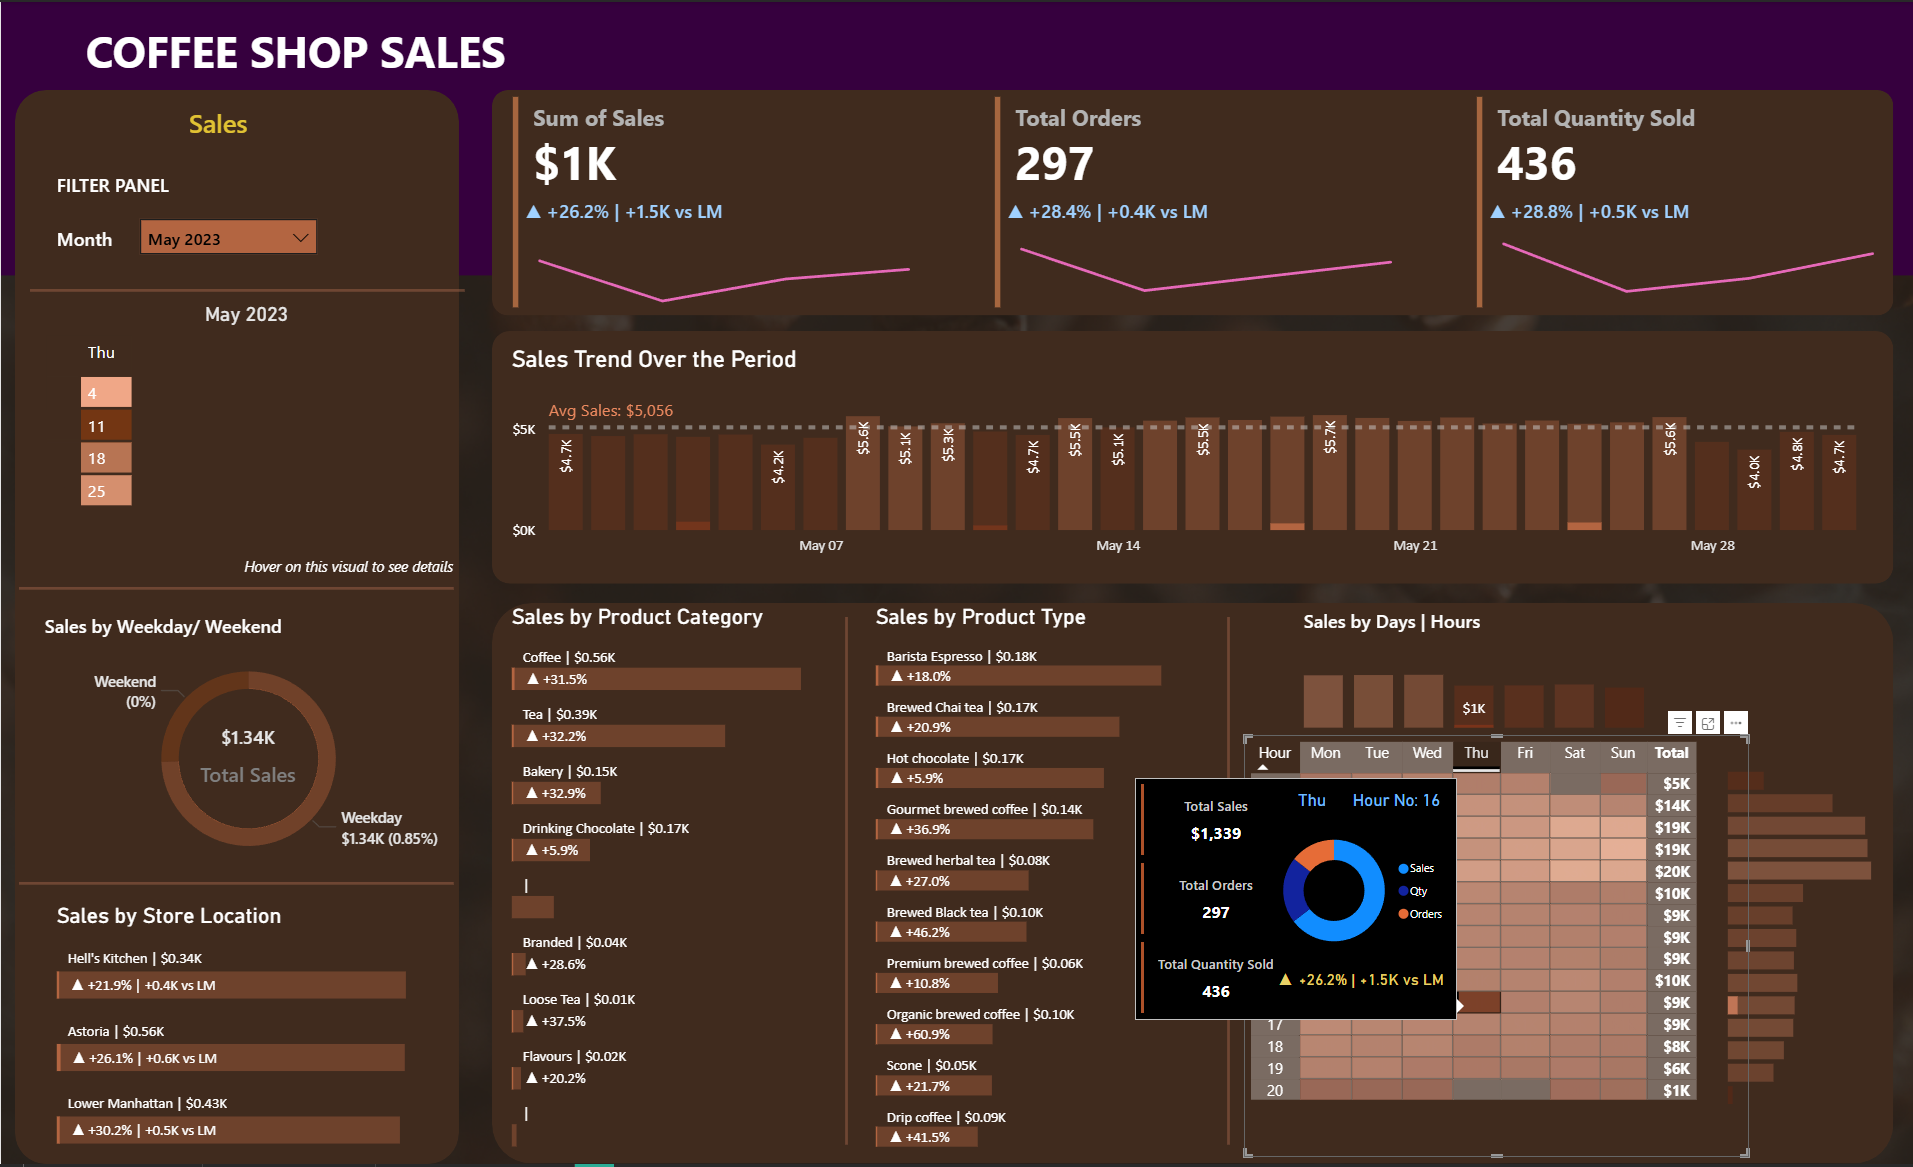

The page's visual inventory and layout, read from the dashboard file:
{"tool":"powerbi","page":{"name":"Coffee Shop Sales Report","canvas":[1400,850],"ordinal":0},"visuals":[{"type":"shape","box":[0,0,1400,200],"z":0},{"type":"shape","box":[10.5,64.4,324.7,785.7],"z":1000},{"type":"shape","box":[358.9,64.7,1025.1,164.9],"z":2000},{"type":"textbox","box":[57.4,8,328.4,56.7],"z":3000},{"type":"cardVisual","fields":{"Data":["Sum(Transactions.Sales)"]},"box":[369.1,64.7,300,164.9],"z":4000,"group":"g1"},{"type":"cardVisual","fields":{"Data":["Transactions.Total Orders"]},"box":[721.8,64.7,300,164.9],"z":4000,"group":"g2"},{"type":"cardVisual","fields":{"Data":["Transactions.Total Quantity Sold"]},"box":[1074.5,64.7,300,164.9],"z":4000,"group":"g3"},{"type":"slicer","fields":{"Values":["Date Table.Month Year"]},"box":[96.5,153.4,139.9,39.7],"z":4000},{"type":"group","id":"g1","title":"Group 1","box":[369.1,64.7,309.5,164.9],"z":5000},{"type":"group","id":"g2","title":"Group 1","box":[721.8,64.7,309.5,164.9],"z":6000},{"type":"lineChart","fields":{"Y":["Transactions.Total Sales"],"Category":["Date Table.Date.Variation.Date Hierarchy.Year","Date Table.Date.Variation.Date Hierarchy.Quarter","Date Table.Date.Variation.Date Hierarchy.Month","Date Table.Date.Variation.Date Hierarchy.Day"]},"box":[378.5,144.6,300,85],"z":6000,"group":"g1"},{"type":"lineChart","fields":{"Category":["Date Table.Date.Variation.Date Hierarchy.Year","Date Table.Date.Variation.Date Hierarchy.Quarter","Date Table.Date.Variation.Date Hierarchy.Month","Date Table.Date.Variation.Date Hierarchy.Day"],"Y":["Transactions.Total Orders"]},"box":[731.2,144.6,300,85],"z":6000,"group":"g2"},{"type":"lineChart","fields":{"Category":["Date Table.Date.Variation.Date Hierarchy.Year","Date Table.Date.Variation.Date Hierarchy.Quarter","Date Table.Date.Variation.Date Hierarchy.Month","Date Table.Date.Variation.Date Hierarchy.Day"],"Y":["Transactions.Total Quantity Sold"]},"box":[1083.9,144.6,300,85],"z":6000,"group":"g3"},{"type":"group","id":"g3","title":"Group 1","box":[1074.5,64.7,309.5,164.9],"z":7000},{"type":"pivotTable","fields":{"Rows":["Date Table.Week Number"],"Columns":["Date Table.Day Name"],"Values":["Min(Date Table.Day Number)"]},"box":[28.3,239,305,190],"z":8000},{"type":"card","fields":{"Values":["Min(Date Table.Month Year)"]},"box":[137.3,211.4,84.3,35.6],"z":9000},{"type":"card","fields":{"Values":["Transactions.Foot Note"]},"box":[166.4,401,176.5,24],"z":10000},{"type":"shape","box":[13.5,417.5,318,22.4],"z":11000},{"type":"shape","box":[21.1,199.8,318.2,22.5],"z":12000},{"type":"donutChart","title":"Sales by Weekday/ Weekend","fields":{"Category":["Date Table.Weekday/ Weekend"],"Y":["Transactions.Total Sales"]},"box":[26.9,447.5,308,194.7],"z":13000},{"type":"card","fields":{"Values":["Transactions.Total Sales"]},"box":[125,523.1,111.2,53.8],"z":14000},{"type":"shape","box":[13.5,633.8,318,22.4],"z":15000},{"type":"clusteredBarChart","title":"Sales by Store Location","fields":{"Category":["Transactions.store_location"],"Y":["Transactions.Placeholder","Transactions.Total Sales"]},"box":[35.6,658.2,290.6,184.5],"z":16000},{"type":"shape","box":[359.2,240.9,1025.1,184.8],"z":17000},{"type":"columnChart","title":"Sales Trend Over the Period","fields":{"Category":["Transactions.transaction_date"],"Y":["Transactions.Total Sales"]},"box":[368.9,250.7,997.4,162.4],"z":18000},{"type":"shape","box":[359.2,440,1025.1,410],"z":19000},{"type":"clusteredBarChart","title":"Sales by Product Category","fields":{"Category":["Transactions.product_category"],"Y":["Transactions.Placeholder","Transactions.Total Sales"]},"box":[368.9,440,249.9,403.3],"z":20000},{"type":"shape","box":[602.4,449.7,32.9,386.1],"z":21000},{"type":"clusteredBarChart","title":"Sales by Product Type","fields":{"Y":["Transactions.Placeholder","Transactions.Total Sales"],"Category":["Transactions.product_type"]},"box":[635.3,440,249.9,403.3],"z":22000},{"type":"shape","box":[881.5,449.7,32.9,386.1],"z":23000},{"type":"pivotTable","fields":{"Rows":["Transactions.Hour"],"Values":["Transactions.Total Sales"],"Columns":["Date Table.Day Name"]},"box":[909.1,536.5,369.6,308.3],"z":24000},{"type":"barChart","fields":{"Category":["Transactions.Hour"],"Y":["Transactions.Total Sales"]},"box":[1257.8,550,116.7,261.1],"z":25000},{"type":"columnChart","title":"Sales by Days | Hours","fields":{"Y":["Transactions.Total Sales"],"Category":["Date Table.Day Name"]},"box":[948,443.7,259.6,92.8],"z":26000},{"type":"textbox","box":[35.9,159.4,60.6,27.7],"z":27000},{"type":"textbox","box":[35.9,119.7,96.5,27.7],"z":28000},{"type":"textbox","box":[132.4,71.1,77.8,38.9],"z":29000}]}

Visuals, with their boxes in screenshot pixels (x1, y1, x2, y2), scaled from the page's 1400x850 canvas onto the 1913x1167 screenshot:
shape: 0 0 1912 275
shape: 14 88 458 1166
shape: 490 89 1891 315
textbox: 78 11 527 89
cardVisual - Sum(Transactions.Sales): 504 89 914 315
cardVisual - Transactions.Total Orders: 986 89 1396 315
cardVisual - Transactions.Total Quantity Sold: 1468 89 1878 315
slicer - Date Table.Month Year: 132 211 323 265
"Group 1" group: 504 89 927 315
"Group 1" group: 986 89 1409 315
lineChart - Transactions.Total Sales x Date Table.Date.Variation.Date Hierarchy.Year: 517 199 927 315
lineChart - Date Table.Date.Variation.Date Hierarchy.Year x Date Table.Date.Variation.Date Hierarchy.Quarter: 999 199 1409 315
lineChart - Date Table.Date.Variation.Date Hierarchy.Year x Date Table.Date.Variation.Date Hierarchy.Quarter: 1481 199 1891 315
"Group 1" group: 1468 89 1891 315
pivotTable - Date Table.Week Number x Date Table.Day Name: 39 328 455 589
card - Min(Date Table.Month Year): 188 290 303 339
card - Transactions.Foot Note: 227 551 469 584
shape: 18 573 453 604
shape: 29 274 464 305
"Sales by Weekday/ Weekend" donutChart: 37 614 458 882
card - Transactions.Total Sales: 171 718 323 792
shape: 18 870 453 901
"Sales by Store Location" clusteredBarChart: 49 904 446 1157
shape: 491 331 1892 584
"Sales Trend Over the Period" columnChart: 504 344 1867 567
shape: 491 604 1892 1166
"Sales by Product Category" clusteredBarChart: 504 604 846 1158
shape: 823 617 868 1148
"Sales by Product Type" clusteredBarChart: 868 604 1210 1158
shape: 1205 617 1249 1148
pivotTable - Transactions.Hour x Transactions.Total Sales: 1242 737 1747 1160
barChart - Transactions.Hour x Transactions.Total Sales: 1719 755 1878 1114
"Sales by Days | Hours" columnChart: 1295 609 1650 737
textbox: 49 219 132 257
textbox: 49 164 181 202
textbox: 181 98 287 151
